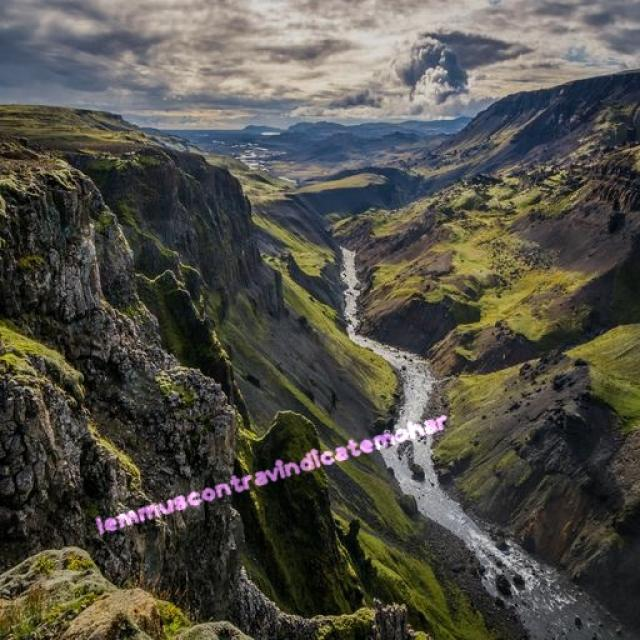watermark: (93, 409, 451, 537)
